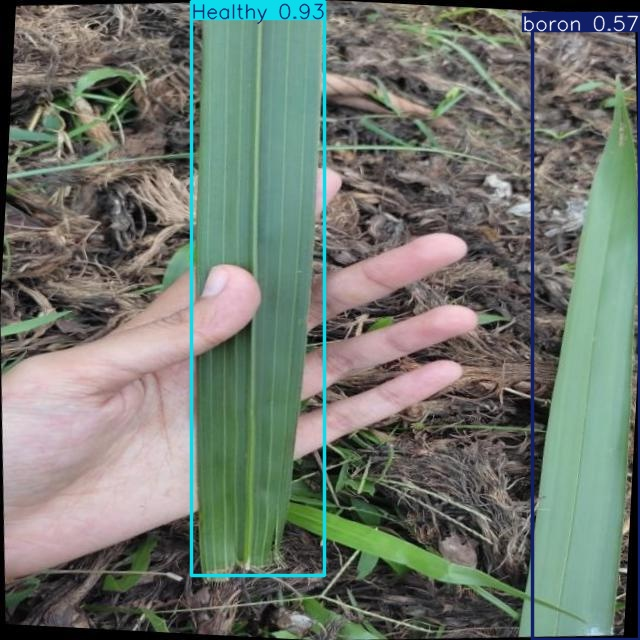Healthy: (192, 2, 325, 576)
nitrogen: (532, 14, 640, 639)
